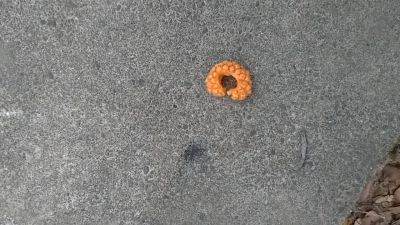eggs: (205, 58, 255, 100)
